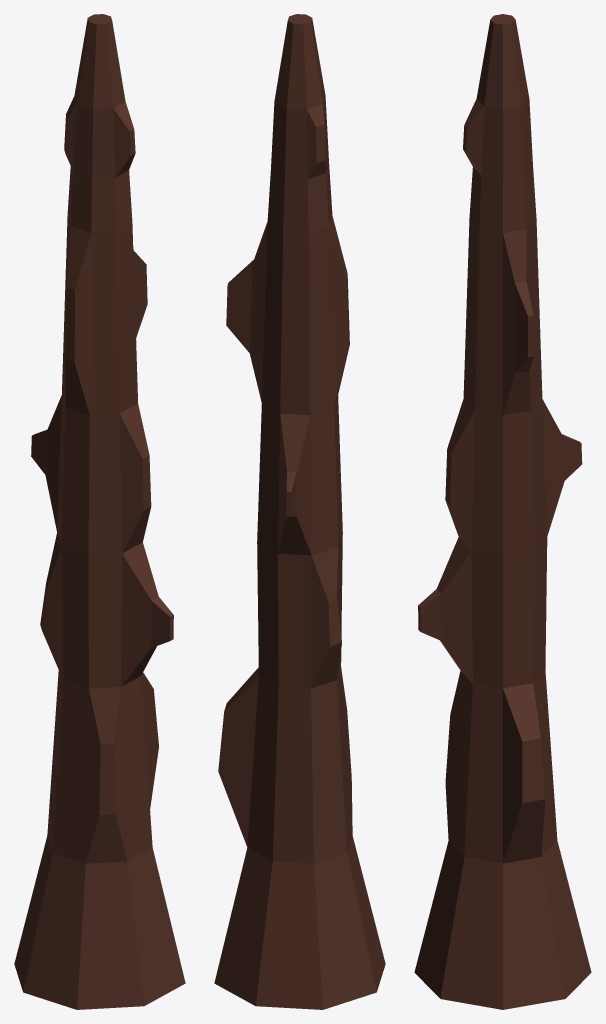
File: FirTree_Burnt.fbx
3 renders of one model, left to right at view 1: azimuth 30°, elevation 25°; view 2: azimuth 150°, elevation 25°; view 3: azimuth 270°, elevation 25°, orthographic.
Visible parts, largest first — view 1: Cylinder.006; view 2: Cylinder.006; view 3: Cylinder.006.
Part boxes in pixels (<box>): Cylinder.006: <box>14,14,185,1009</box>; Cylinder.006: <box>214,14,385,1009</box>; Cylinder.006: <box>414,14,591,1009</box>.
Bounding box in the file's own units: 129 × 766 × 129.
